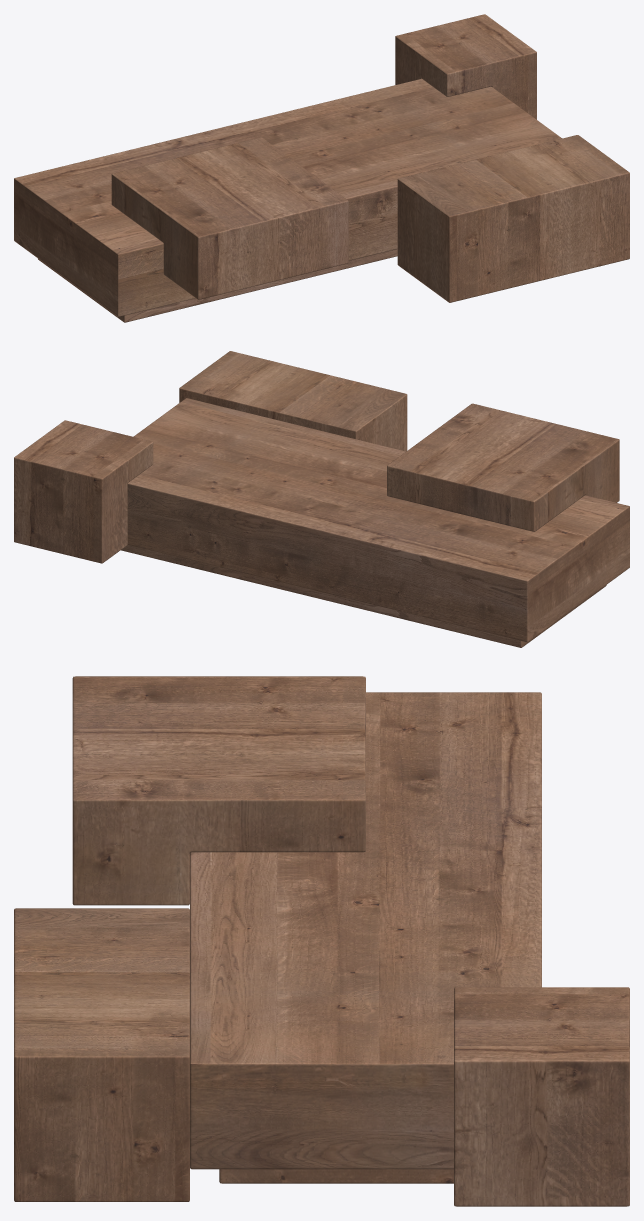
Rendered from coffee_table.glb.
3 renders of one model, top to bottom at view 1: azimuth 30°, elevation 25°; view 2: azimuth 150°, elevation 25°; view 3: azimuth 270°, elevation 25°, orthographic. The views are drawn at different scales.
Visible parts, largest first — view 1: 3dfurnituregallery_free_3d_model_003_hazel_165x105x35_cm_0; view 2: 3dfurnituregallery_free_3d_model_003_hazel_165x105x35_cm_0; view 3: 3dfurnituregallery_free_3d_model_003_hazel_165x105x35_cm_0.
Boxes of the visible parts, x1,y1,x2,y2 form: 3dfurnituregallery_free_3d_model_003_hazel_165x105x35_cm_0: [14, 14, 629, 322]; 3dfurnituregallery_free_3d_model_003_hazel_165x105x35_cm_0: [14, 351, 629, 647]; 3dfurnituregallery_free_3d_model_003_hazel_165x105x35_cm_0: [14, 676, 629, 1206].
Size of the model in its own units: 1.65 by 0.35 by 1.05.
1 material, 1 textured.
